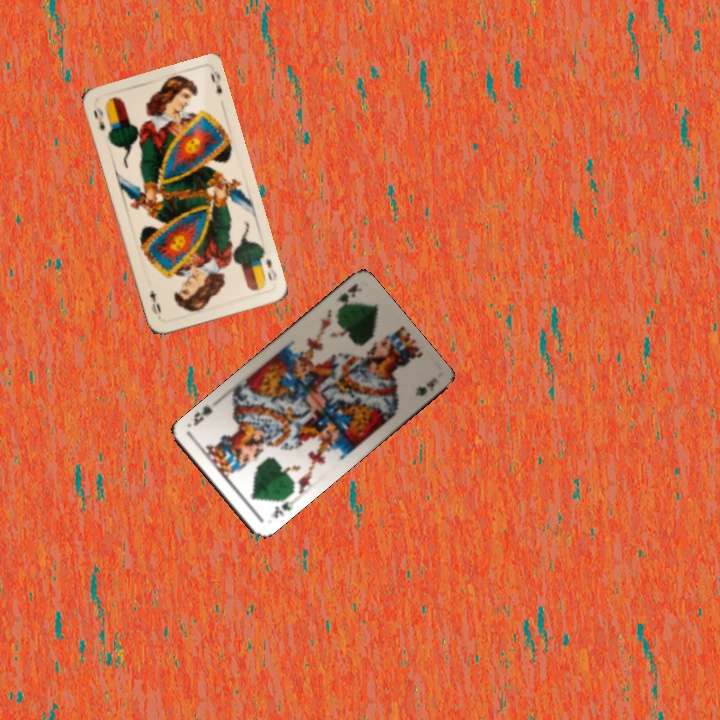EO: (89, 103, 108, 133), (262, 255, 280, 284)
GK: (332, 280, 360, 316), (270, 497, 296, 521)
